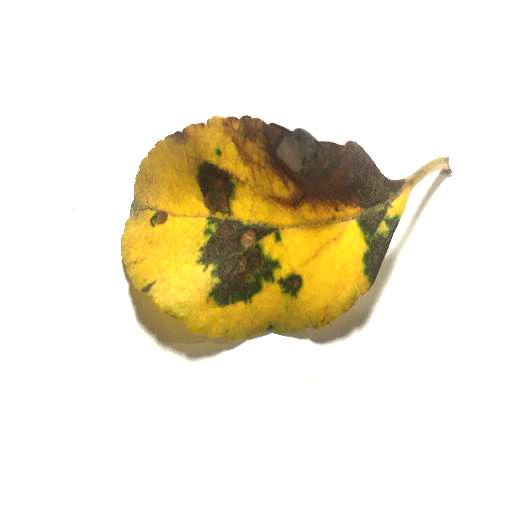Brown_Spot: (236, 123, 388, 200), (207, 222, 263, 297), (199, 162, 235, 210), (148, 204, 175, 225), (282, 272, 296, 293)
